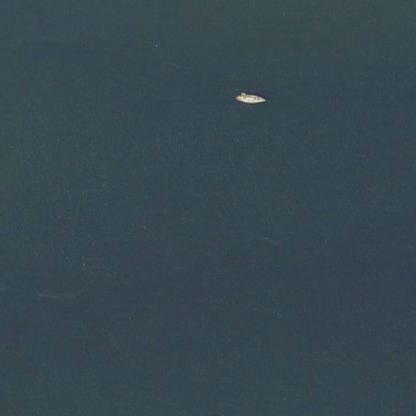ship: (228, 84, 268, 110)
